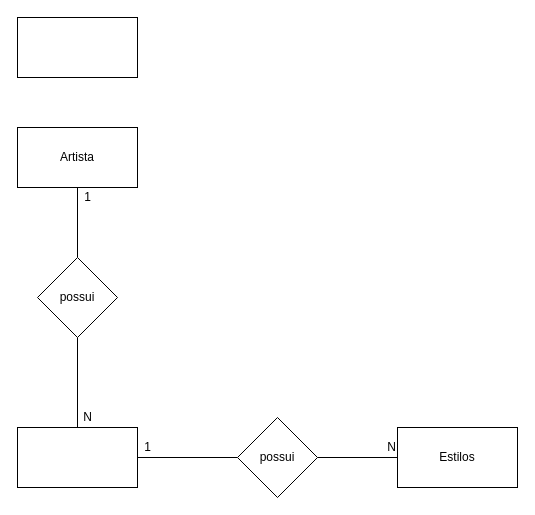
Some shapes in this 535 by 515 pixel diagram are drawn without their labels. The shapes that lost their labels are listed below. From the top down, each one's box as (x1, y1, x2, y2) in pixels, then its label:
(16, 16, 138, 78): Usuario
(16, 426, 138, 488): Album
